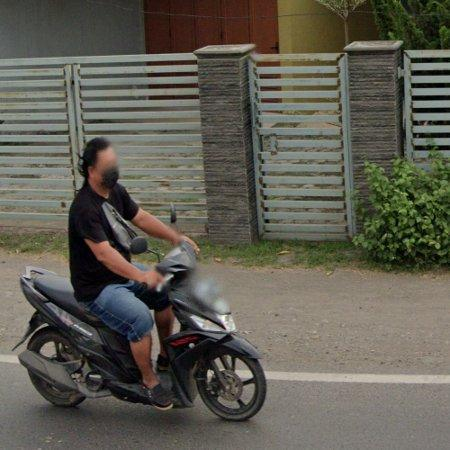motorcycles: (155, 243, 267, 422), (16, 267, 149, 408)
